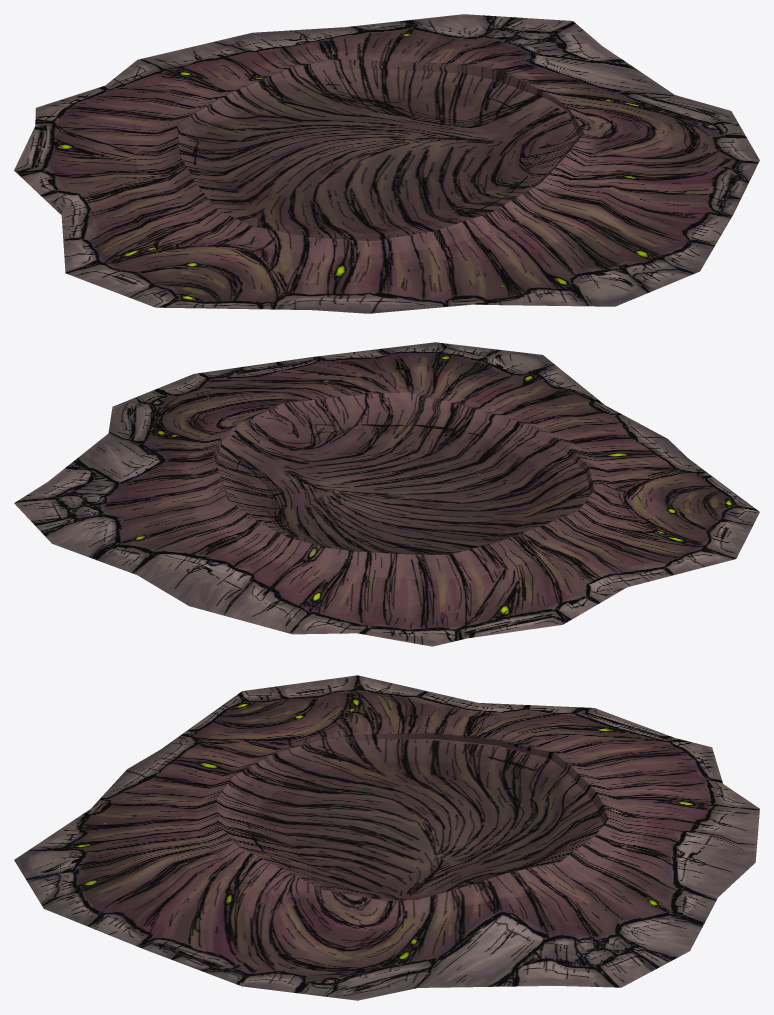
The model's file is CosmicGoo_Crater.fbx.
The picture shows the model from 3 angles, top to bottom: view 1: azimuth 30°, elevation 25°; view 2: azimuth 150°, elevation 25°; view 3: azimuth 270°, elevation 25°; orthographic projection. The views are drawn at different scales.
Parts seen in each view (by area): view 1: GooCrater; view 2: GooCrater; view 3: GooCrater.
Part boxes in pixels (box(x1,y1,x2,y2)): GooCrater: box(14, 14, 759, 313); GooCrater: box(14, 342, 759, 646); GooCrater: box(14, 675, 759, 1000).
Bounding box in the file's own units: 23.47 × 1.31 × 22.74.
